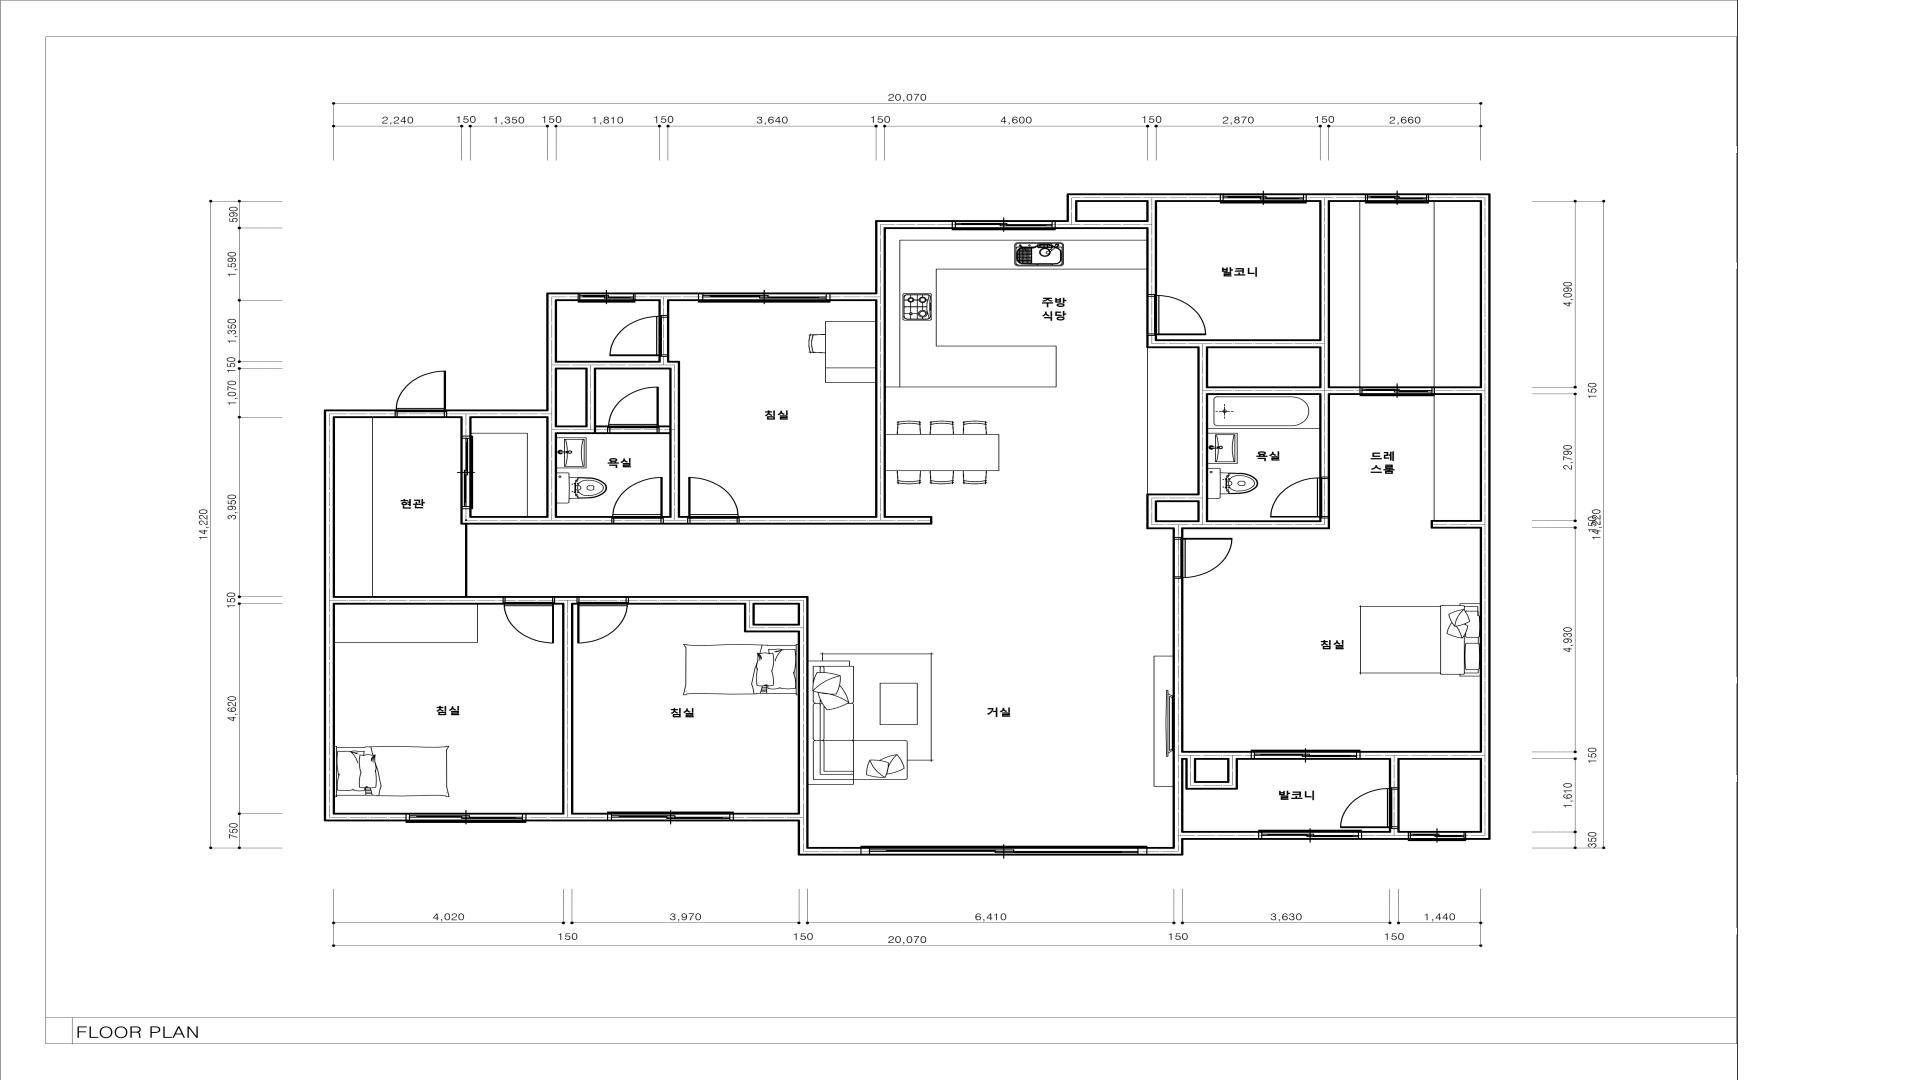background: (0, 0, 1920, 1080)
door: (1146, 294, 1208, 336), (687, 476, 740, 525), (394, 371, 448, 418), (1172, 537, 1233, 579), (1340, 787, 1400, 829), (502, 596, 555, 644), (576, 596, 629, 644), (609, 315, 669, 357), (608, 386, 661, 434), (612, 477, 665, 525), (1271, 477, 1331, 518), (460, 435, 473, 509), (1360, 386, 1435, 396)
wall: (1480, 202, 1490, 831), (323, 418, 335, 812), (1319, 202, 1331, 477), (1172, 579, 1184, 831), (562, 605, 574, 812), (876, 301, 886, 516), (798, 605, 808, 812), (1146, 336, 1320, 348), (1146, 518, 1331, 529), (1197, 348, 1208, 521), (740, 516, 932, 525), (629, 596, 808, 605), (556, 356, 680, 369), (335, 596, 502, 605), (670, 369, 680, 516), (460, 516, 612, 525), (546, 293, 556, 418), (546, 418, 558, 516), (1077, 194, 1220, 202), (1361, 750, 1480, 760), (1146, 202, 1158, 294), (1208, 386, 1319, 396), (874, 220, 886, 301), (447, 409, 546, 418), (324, 812, 405, 822), (526, 812, 607, 822), (1184, 831, 1258, 840), (324, 409, 394, 418), (1077, 220, 1146, 229), (1184, 750, 1251, 760), (886, 220, 952, 229), (585, 369, 596, 426), (733, 812, 798, 822), (798, 847, 861, 856), (744, 624, 798, 633), (636, 293, 698, 301), (1429, 194, 1491, 202), (1185, 781, 1238, 790), (1362, 829, 1408, 840), (1307, 194, 1365, 202), (1431, 520, 1480, 529), (1156, 493, 1197, 502), (798, 812, 808, 847), (1435, 386, 1480, 394), (831, 293, 874, 301), (1146, 493, 1158, 521), (1389, 760, 1400, 787), (556, 426, 596, 434), (1172, 831, 1184, 856), (1067, 194, 1077, 220), (1331, 386, 1360, 396), (1185, 760, 1196, 782), (1147, 847, 1172, 856), (1228, 760, 1238, 781), (663, 516, 687, 525), (460, 418, 472, 436), (1466, 831, 1490, 840), (555, 596, 576, 605), (744, 605, 754, 624), (1056, 220, 1077, 229), (658, 301, 670, 315), (558, 293, 578, 301), (596, 426, 608, 434), (1172, 529, 1183, 537), (659, 426, 670, 434), (460, 509, 472, 516)
window: (861, 845, 1147, 856), (405, 812, 526, 823), (698, 293, 831, 302), (607, 812, 735, 822), (952, 220, 1056, 231), (1258, 829, 1362, 840), (1250, 750, 1361, 760), (1220, 194, 1307, 203), (578, 293, 636, 303), (1408, 831, 1466, 841), (1365, 194, 1429, 203)
